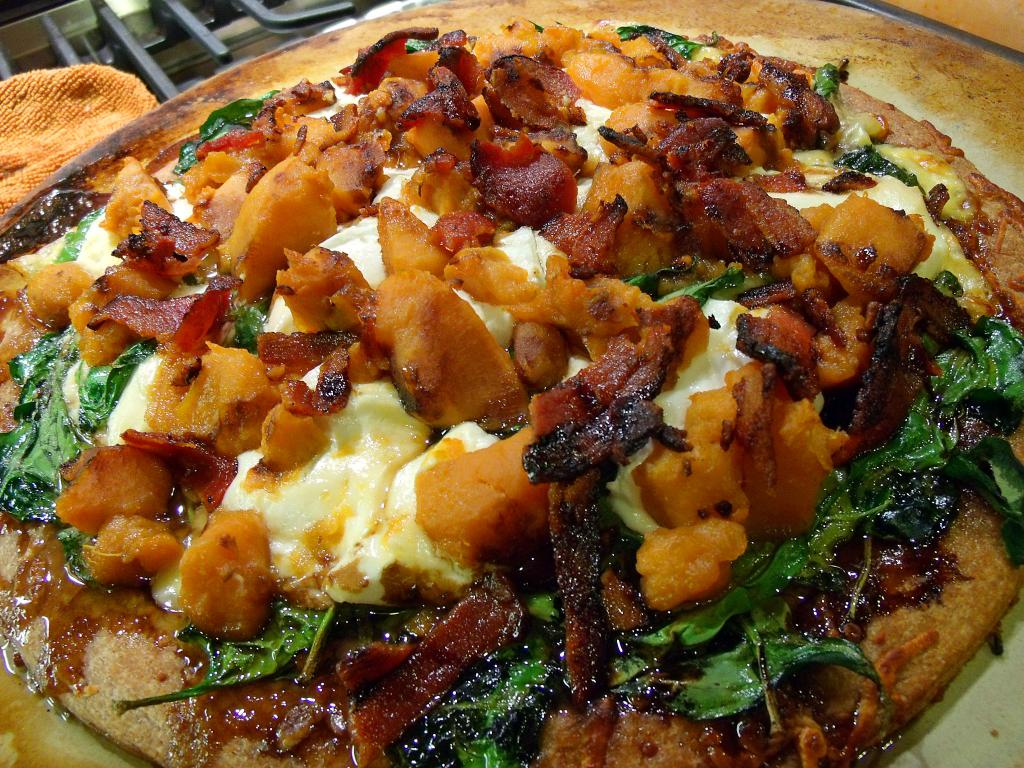Pizza: (0, 0, 1024, 744)
